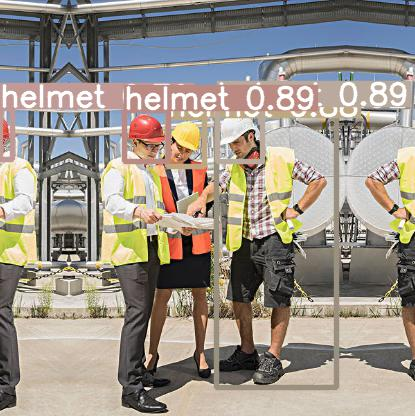helmet: (217, 106, 262, 161), (124, 110, 168, 161), (167, 117, 204, 166), (0, 108, 12, 159)
person: (216, 108, 336, 387)
